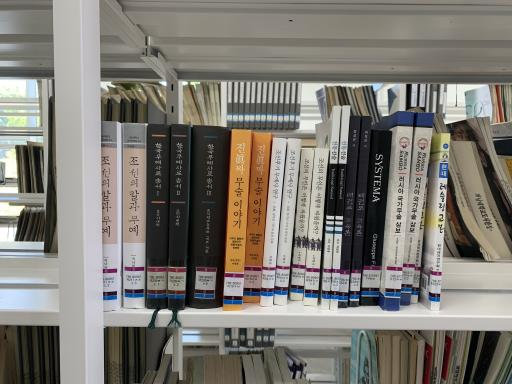book-spine: (187, 124, 226, 309), (400, 112, 434, 305), (384, 110, 415, 311), (361, 130, 393, 305), (223, 129, 252, 310), (243, 132, 271, 303), (274, 138, 302, 305), (349, 116, 373, 306), (260, 138, 287, 306), (122, 123, 146, 309), (330, 105, 351, 310), (167, 124, 190, 310), (147, 124, 170, 309), (339, 116, 361, 307), (303, 148, 329, 307), (290, 148, 315, 301), (323, 106, 341, 310), (101, 121, 119, 311), (431, 133, 450, 310), (411, 149, 430, 305)
